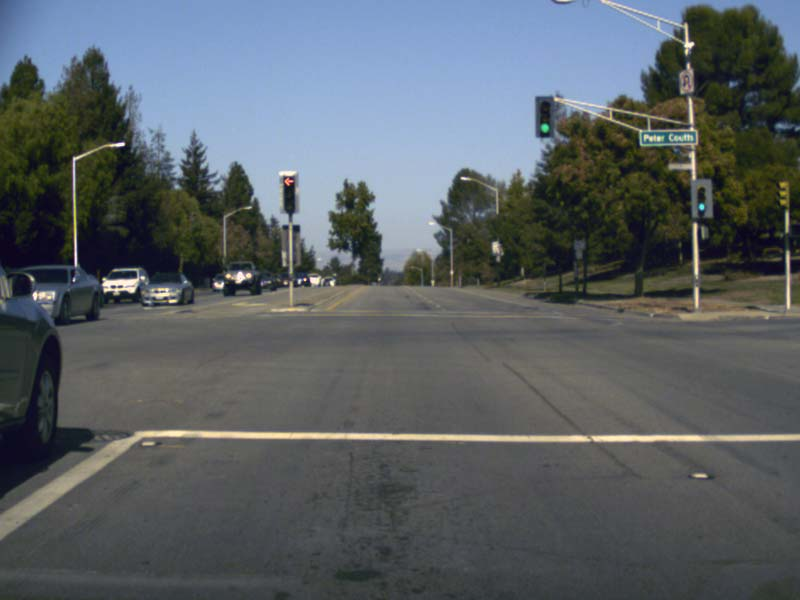Green: (539, 100, 550, 136), (697, 186, 705, 216)
Red: (283, 176, 297, 211)
